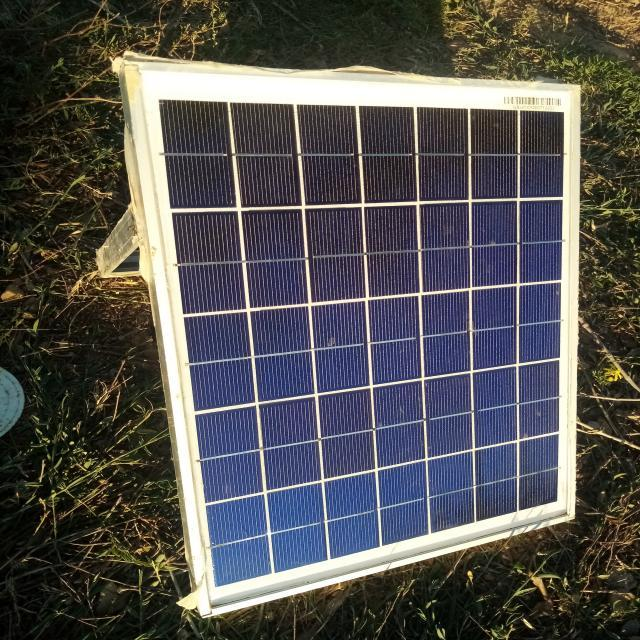no faulty: (127, 66, 585, 615)
